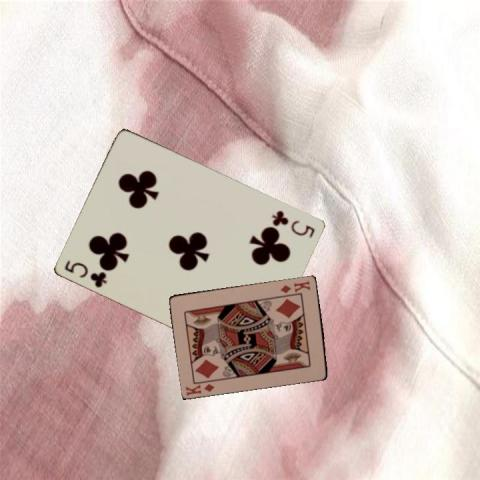5c: (269, 208, 317, 240), (61, 257, 109, 289)
Kd: (277, 278, 312, 294), (183, 380, 216, 396)
